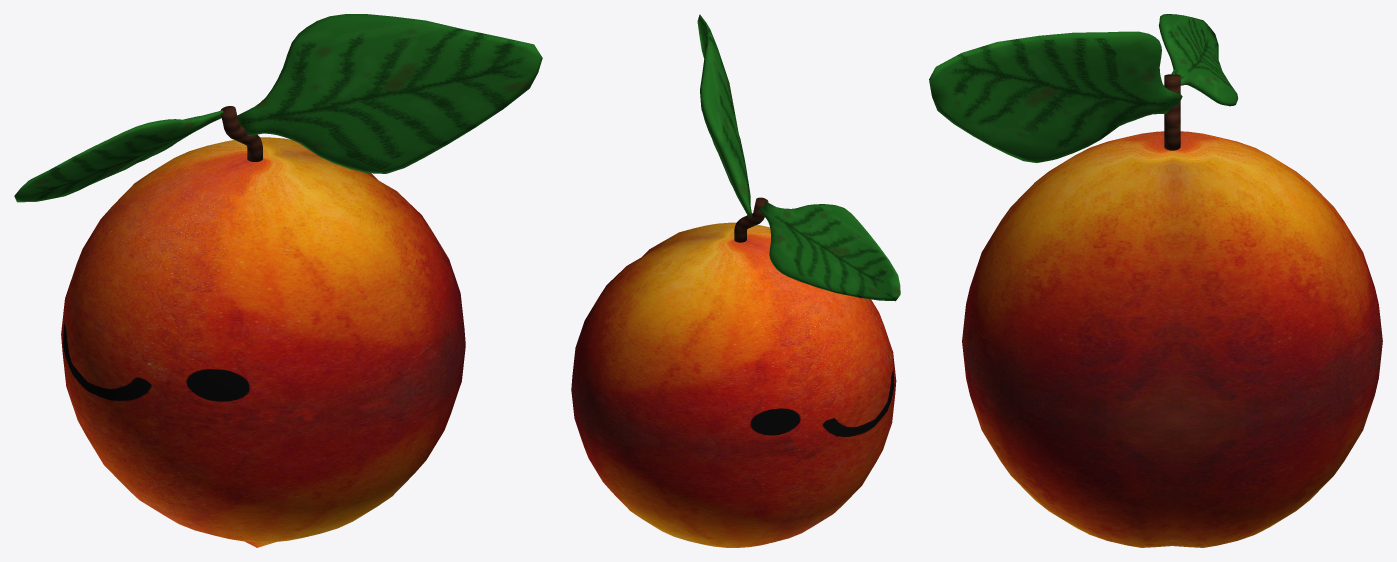
File: peach.obj
3 views of the same model, side by side, from view 1: azimuth 30°, elevation 25°; view 2: azimuth 150°, elevation 25°; view 3: azimuth 270°, elevation 25° (orthographic). The views are drawn at different scales.
Visible parts, largest first — view 1: Sphere, Sphere.001, Sphere.003, Sphere.002; view 2: Sphere, Sphere.003, Sphere.001, Sphere.002; view 3: Sphere, Sphere.001, Sphere.003, Sphere.002.
Part boxes in pixels (x1=…): Sphere: x1=61, y1=137, x2=465, y2=547; Sphere.001: x1=237, y1=14, x2=542, y2=173; Sphere.003: x1=14, y1=110, x2=223, y2=202; Sphere.002: x1=220, y1=106, x2=262, y2=161; Sphere: x1=571, y1=222, x2=896, y2=547; Sphere.003: x1=759, y1=201, x2=900, y2=301; Sphere.001: x1=697, y1=14, x2=751, y2=216; Sphere.002: x1=734, y1=197, x2=768, y2=242; Sphere: x1=962, y1=131, x2=1382, y2=547; Sphere.001: x1=929, y1=31, x2=1182, y2=162; Sphere.003: x1=1158, y1=14, x2=1238, y2=106; Sphere.002: x1=1164, y1=74, x2=1180, y2=150.
Bounding box in the file's own units: 2.28 × 2.97 × 2.16.
Materials: 3 (3 with a texture image).
